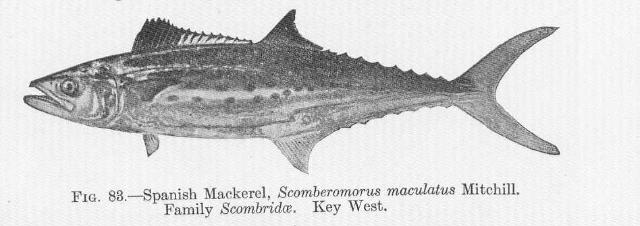Mulut: (18, 72, 72, 118)
Sirip Anal: (274, 116, 352, 176)
Sirip Dada: (132, 74, 184, 104)
Sirip Ekor: (465, 22, 573, 160)
Sirip Perut: (138, 130, 166, 158)
Sirip Punggung: (129, 8, 325, 58)
